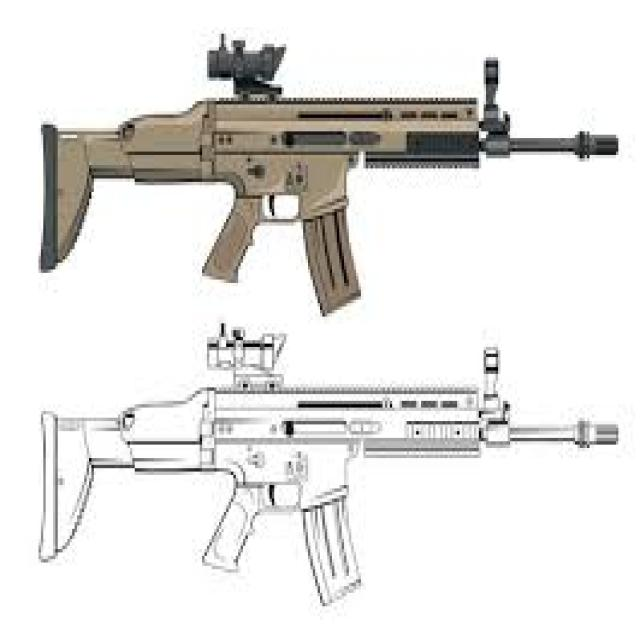Gun: (34, 321, 626, 640), (31, 27, 624, 322)
